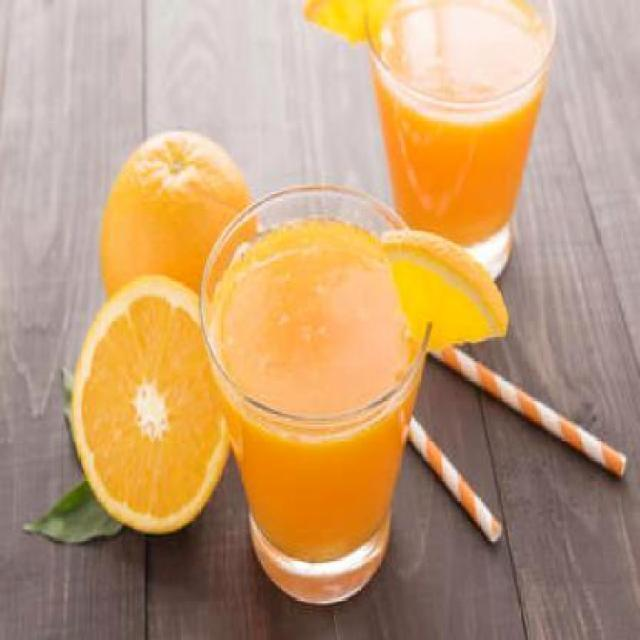Jeruk Sudah Matang: (101, 126, 264, 367)
